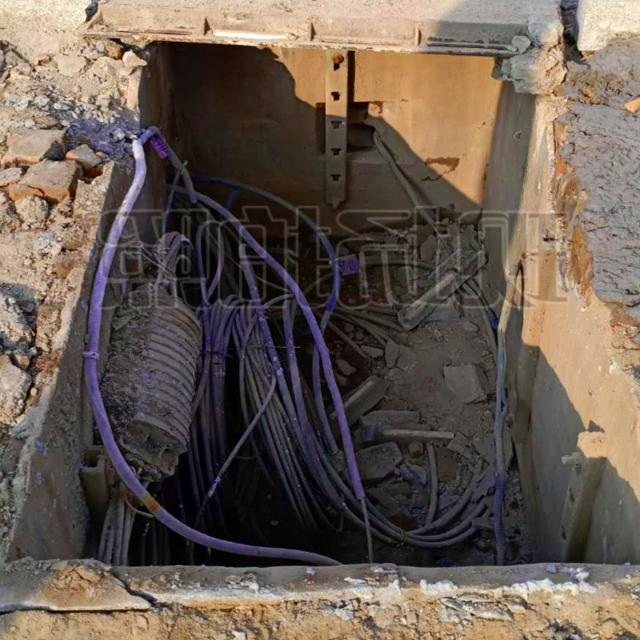lose: (0, 25, 640, 619)
